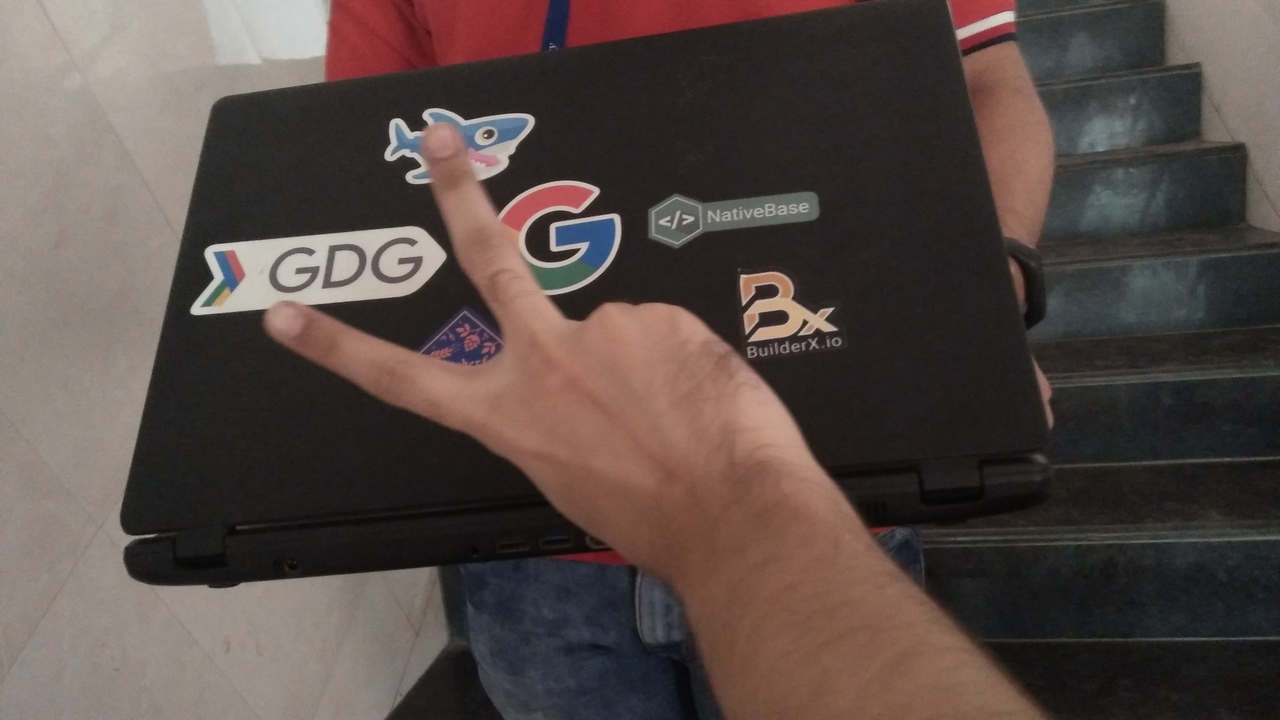fingertip: (396, 102, 484, 176), (248, 292, 326, 348)
